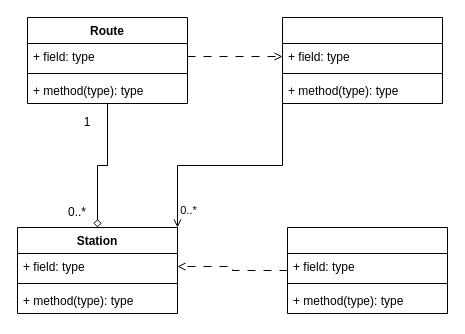
The diagram is 465 pixels wide and 334 high, and some of its shapes have lost their labels. The box of each missing label's shape, as (x1, y1, x2, y2) in pixels:
ExpressIterator: (282, 16, 442, 104)
Timetable: (286, 226, 448, 314)
